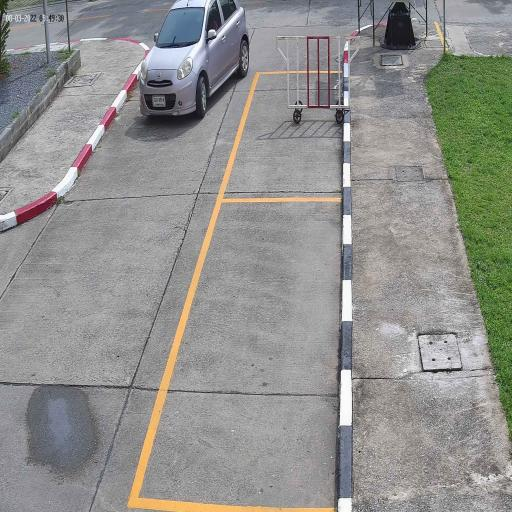car: (138, 0, 251, 121)
